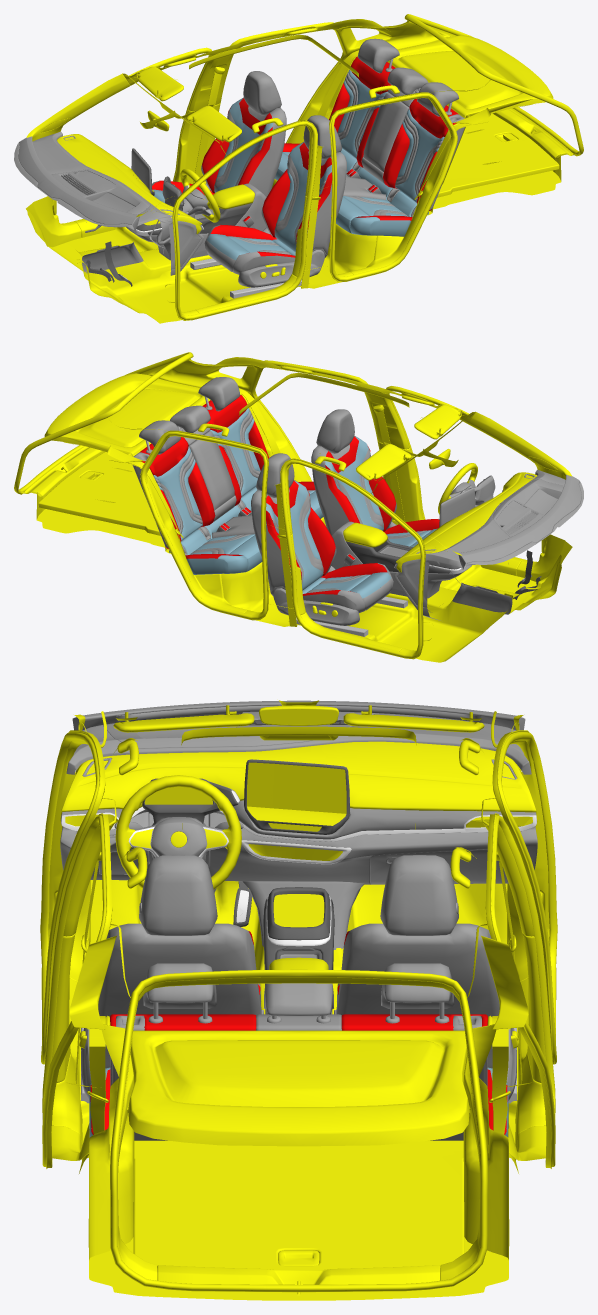
File: NeiShi.glb
3 views of the same model, one above another, from view 1: azimuth 30°, elevation 25°; view 2: azimuth 150°, elevation 25°; view 3: azimuth 270°, elevation 25° (orthographic). The views are drawn at different scales.
Parts seen in each view (by area): view 1: CheMen8, 塑料黑1, Material #1173, WaiKe4, CheMen1, 车门8, CheMen9, Material #1237, 04 - Default1, Material #1212 (×2), NeiShi9, 对象004 (+7 smaller); view 2: CheMen8, 塑料黑1, Material #1173, WaiKe4, CheMen1, 车门8, CheMen9, Material #1237, 04 - Default1, Material #1212 (×2), NeiShi9, 对象004 (+7 smaller); view 3: 04 - Default1, Material #1237, CheMen8, Material #1173 (×2), 塑料黑1, 车门8, Material #1212 (×2), 贴图1, WaiKe4, NeiShi8, 对象004, CheMen9 (+7 smaller).
Part boxes in pixels (box(x1,y1,x2,y2)): CheMen8: box(152, 38, 465, 274); 塑料黑1: box(26, 21, 576, 315); Material #1173: box(14, 131, 266, 275); WaiKe4: box(27, 179, 376, 323); CheMen1: box(153, 70, 444, 260); 车门8: box(62, 14, 583, 320); CheMen9: box(152, 56, 458, 257); Material #1237: box(387, 35, 553, 118); 04 - Default1: box(430, 113, 559, 212); Material #1212 (×2): box(57, 134, 254, 286); NeiShi9: box(193, 50, 488, 288); 对象004: box(122, 19, 479, 155); CheMen8: box(132, 377, 439, 612); 塑料黑1: box(21, 359, 572, 653); Material #1173: box(331, 470, 583, 620); WaiKe4: box(221, 517, 561, 662); CheMen1: box(153, 408, 437, 598); 车门8: box(14, 352, 536, 659); CheMen9: box(139, 395, 439, 595); Material #1237: box(44, 373, 210, 456); 04 - Default1: box(38, 451, 167, 550); Material #1212 (×2): box(343, 463, 541, 599); NeiShi9: box(109, 388, 405, 626); 对象004: box(116, 357, 475, 493); 04 - Default1: box(88, 1091, 509, 1269); Material #1237: box(128, 1030, 469, 1146); CheMen8: box(98, 855, 499, 1140); Material #1173 (×2): box(60, 700, 537, 1014); 塑料黑1: box(48, 711, 549, 1284); 车门8: box(40, 730, 557, 1292); Material #1212 (×2): box(60, 741, 537, 969); 贴图1: box(65, 760, 532, 927); WaiKe4: box(79, 880, 518, 1173); NeiShi8: box(89, 1237, 508, 1300); 对象004: box(102, 726, 495, 1001); CheMen9: box(90, 931, 507, 1134).
Bounding box in the file's own units: 3.49 × 1.2 × 1.57.
Materials: 10 (3 with a texture image).
